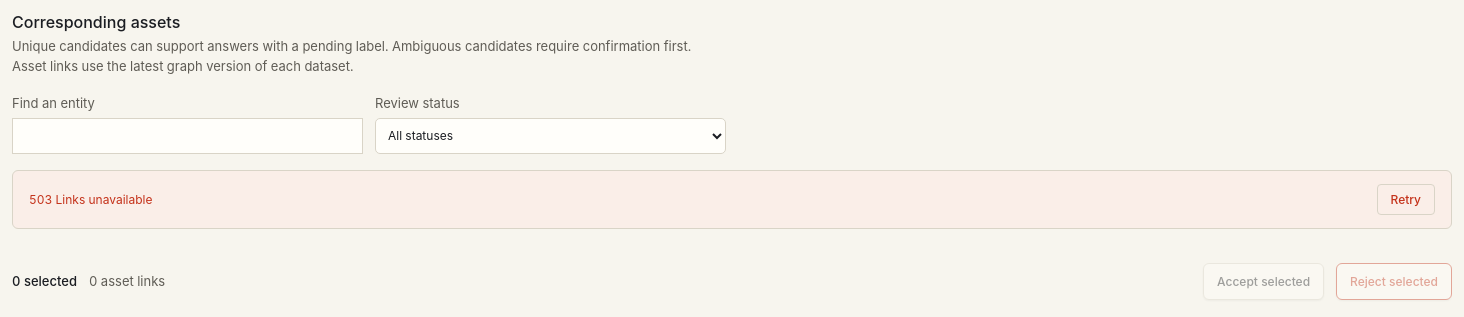
Test case: distinguishes failed reads from an empty set and retries safely
The image size is (1464, 317).
Check: the message shows "Links unavailable", box [29, 192, 152, 207]
Check: the text "No corresponding catalog asset is registered." is not shown
Click the button "Retry" at [1406, 200], box [1376, 184, 1435, 215]
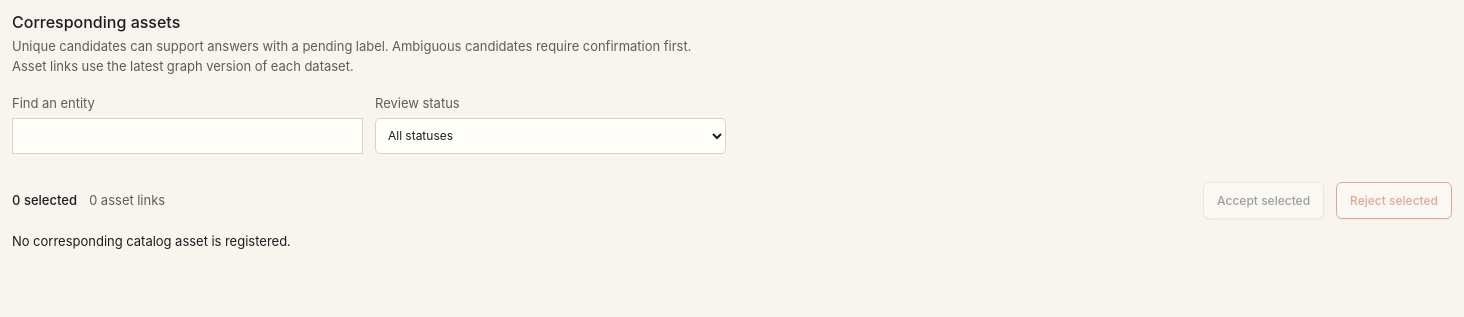
Check: the text "No corresponding catalog asset is registered." is shown, box [12, 233, 291, 249]
